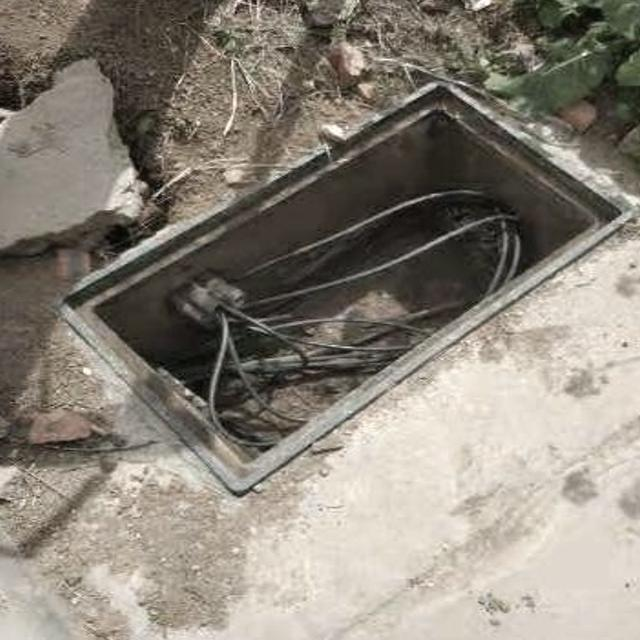lose: (54, 78, 631, 497)
